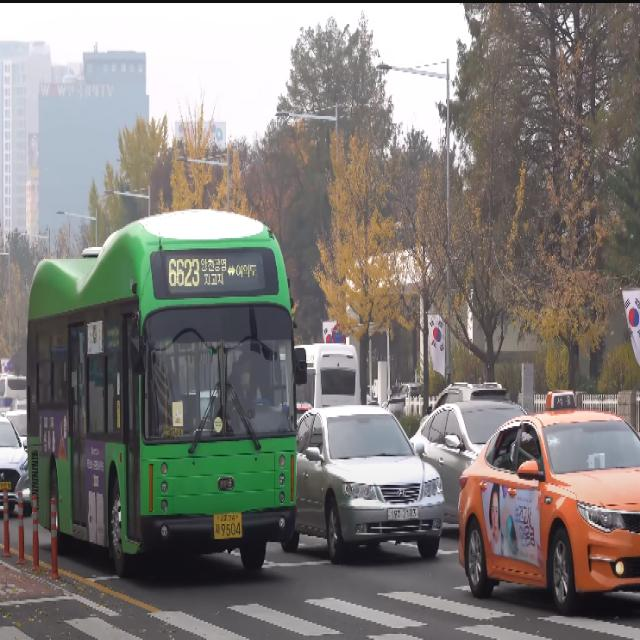bus-number: (168, 256, 200, 289)
